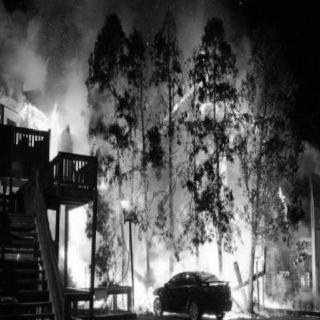Fire: (102, 51, 274, 318), (54, 76, 96, 306), (8, 88, 64, 138), (273, 174, 297, 226)
